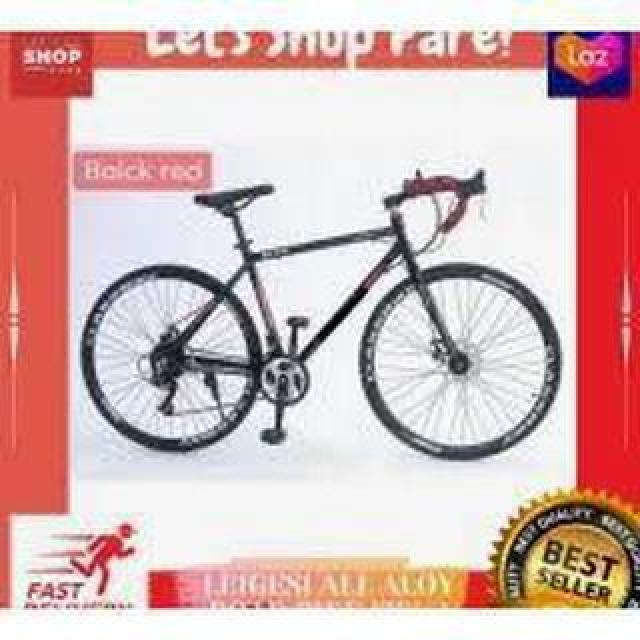Person: (80, 167, 560, 461)
